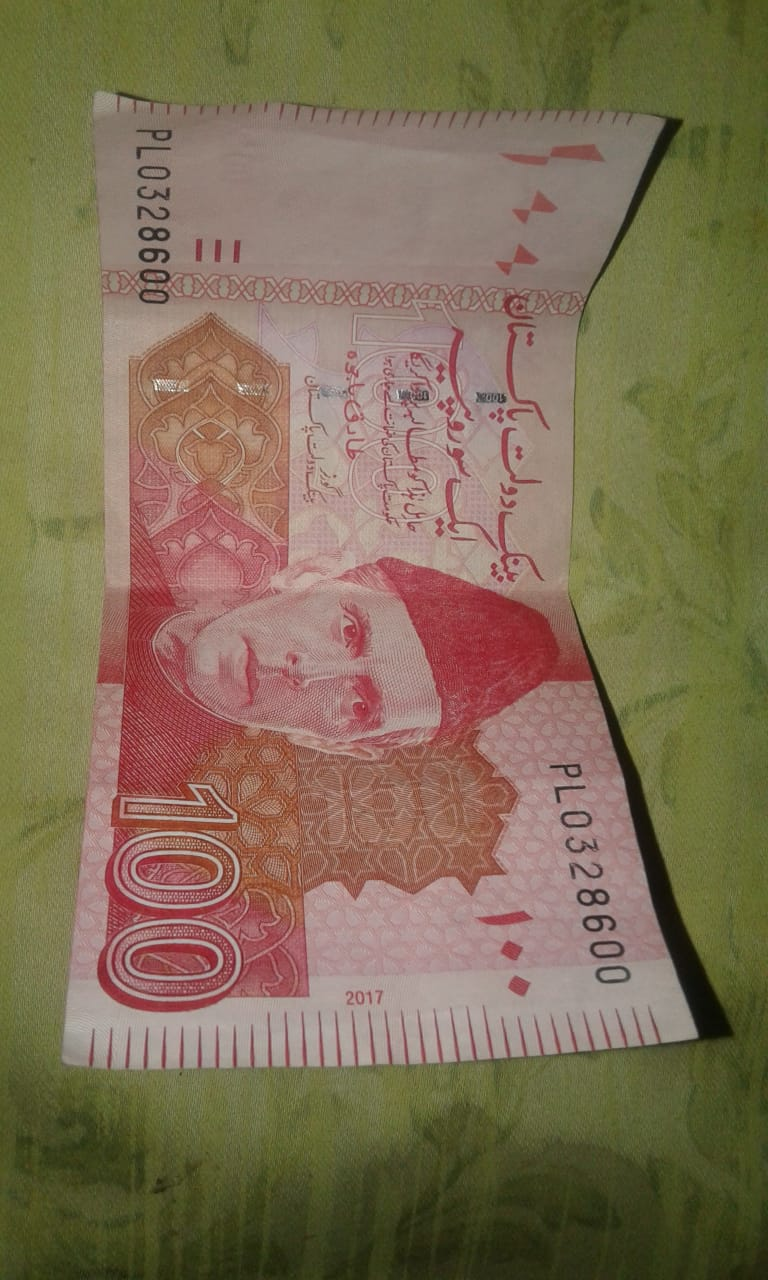100 rupee: (57, 76, 703, 1070)
